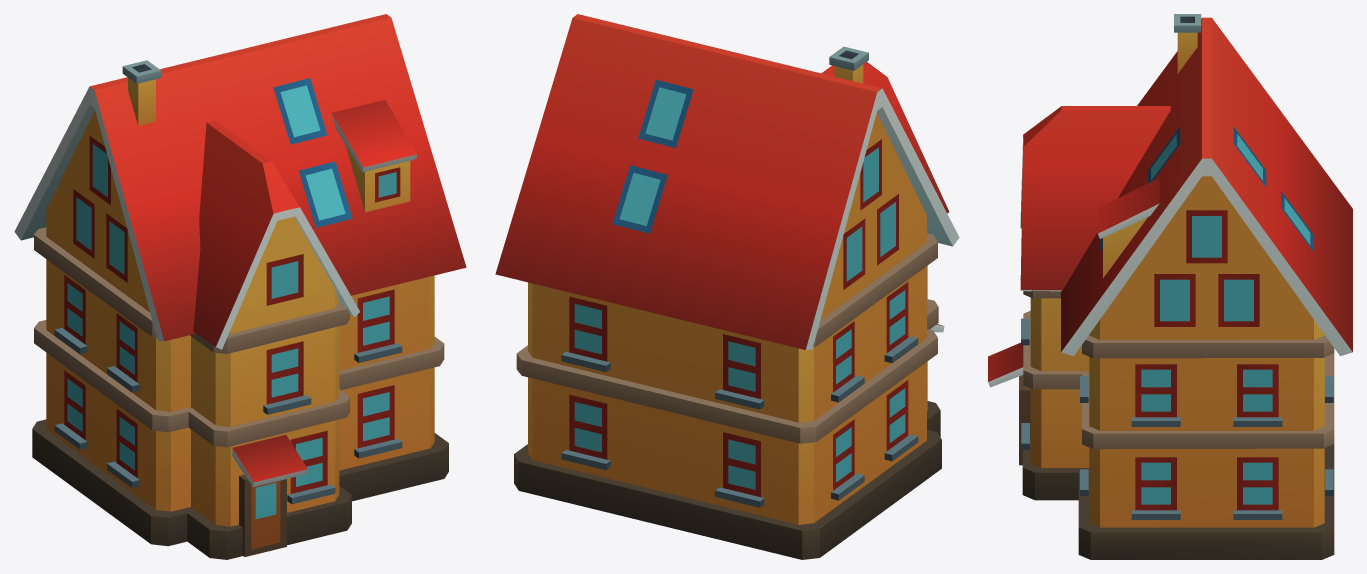
The model's file is Building_cartoon_9.fbx.
The picture shows the model from 3 angles, left to right: view 1: azimuth 30°, elevation 25°; view 2: azimuth 150°, elevation 25°; view 3: azimuth 270°, elevation 25°; orthographic projection. The views are drawn at different scales.
Visible parts, largest first — view 1: Building_cartoon_9; view 2: Building_cartoon_9; view 3: Building_cartoon_9.
Boxes of the visible parts, x1,y1,x2,y2 form: Building_cartoon_9: [14, 14, 466, 559]; Building_cartoon_9: [495, 14, 959, 559]; Building_cartoon_9: [988, 14, 1352, 559].
Size of the model in its own units: 1047 by 1422 by 1125.
